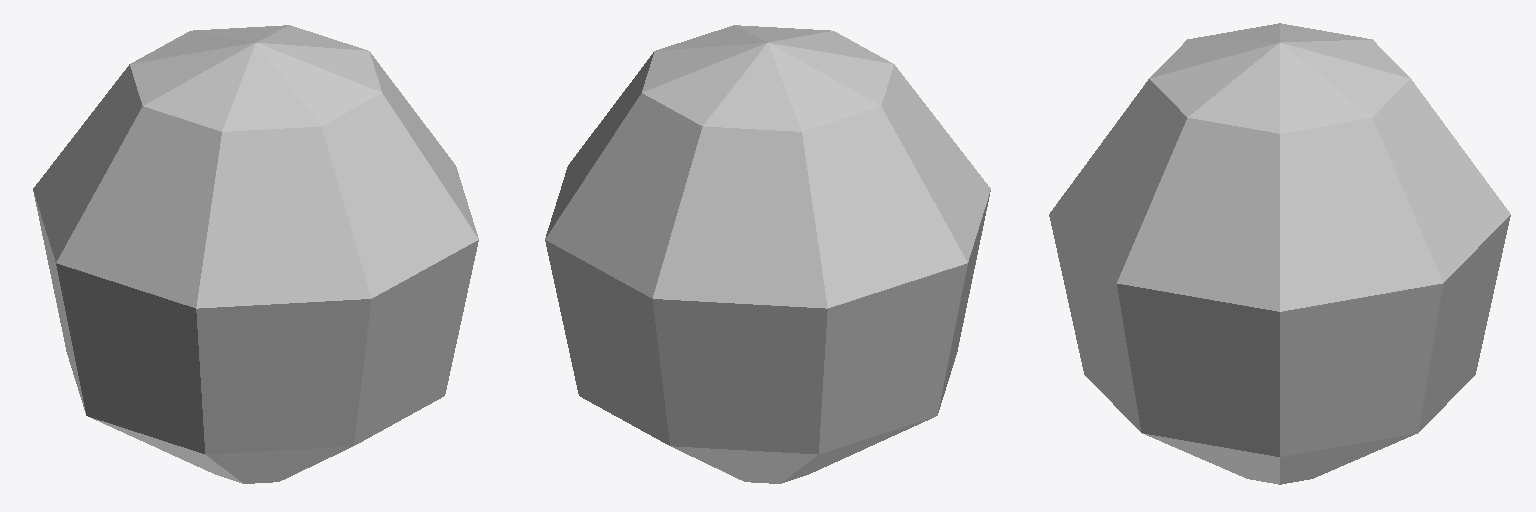
File: kumoattack.obj
The picture shows the model from 3 angles: view 1: azimuth 30°, elevation 25°; view 2: azimuth 150°, elevation 25°; view 3: azimuth 270°, elevation 25°; orthographic projection.
Visible parts, largest first — view 1: 球体; view 2: 球体; view 3: 球体.
Part boxes in pixels (x1,y1,x2,y2): 球体: (33,25,478,483); 球体: (545,25,990,483); 球体: (1049,23,1510,484).
Size of the model in its own units: 0.1706 by 0.1739 by 0.1706.